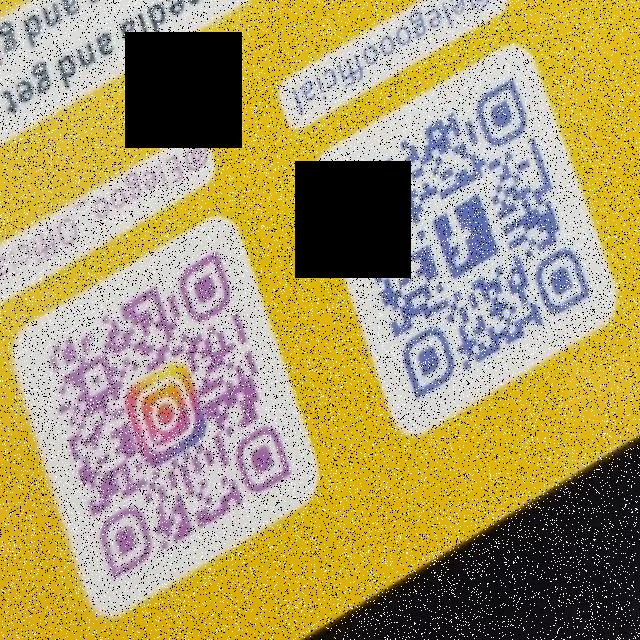QR_CODE: (32, 221, 300, 584), (340, 66, 599, 410)
